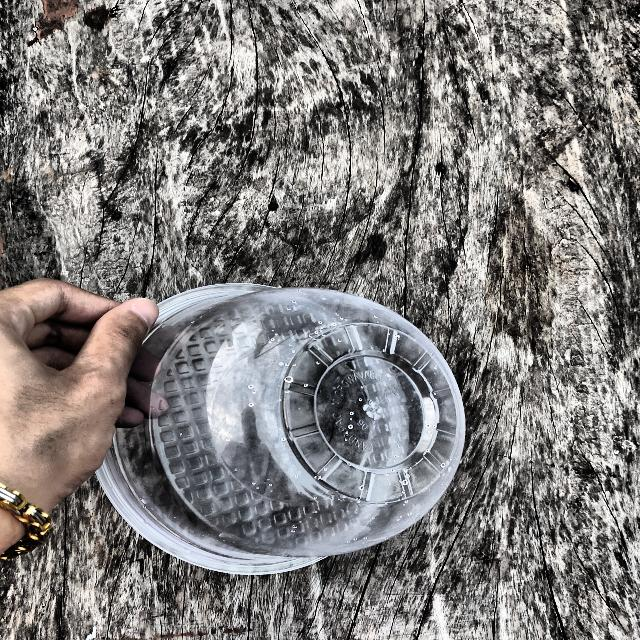plastic container: (75, 268, 479, 601)
